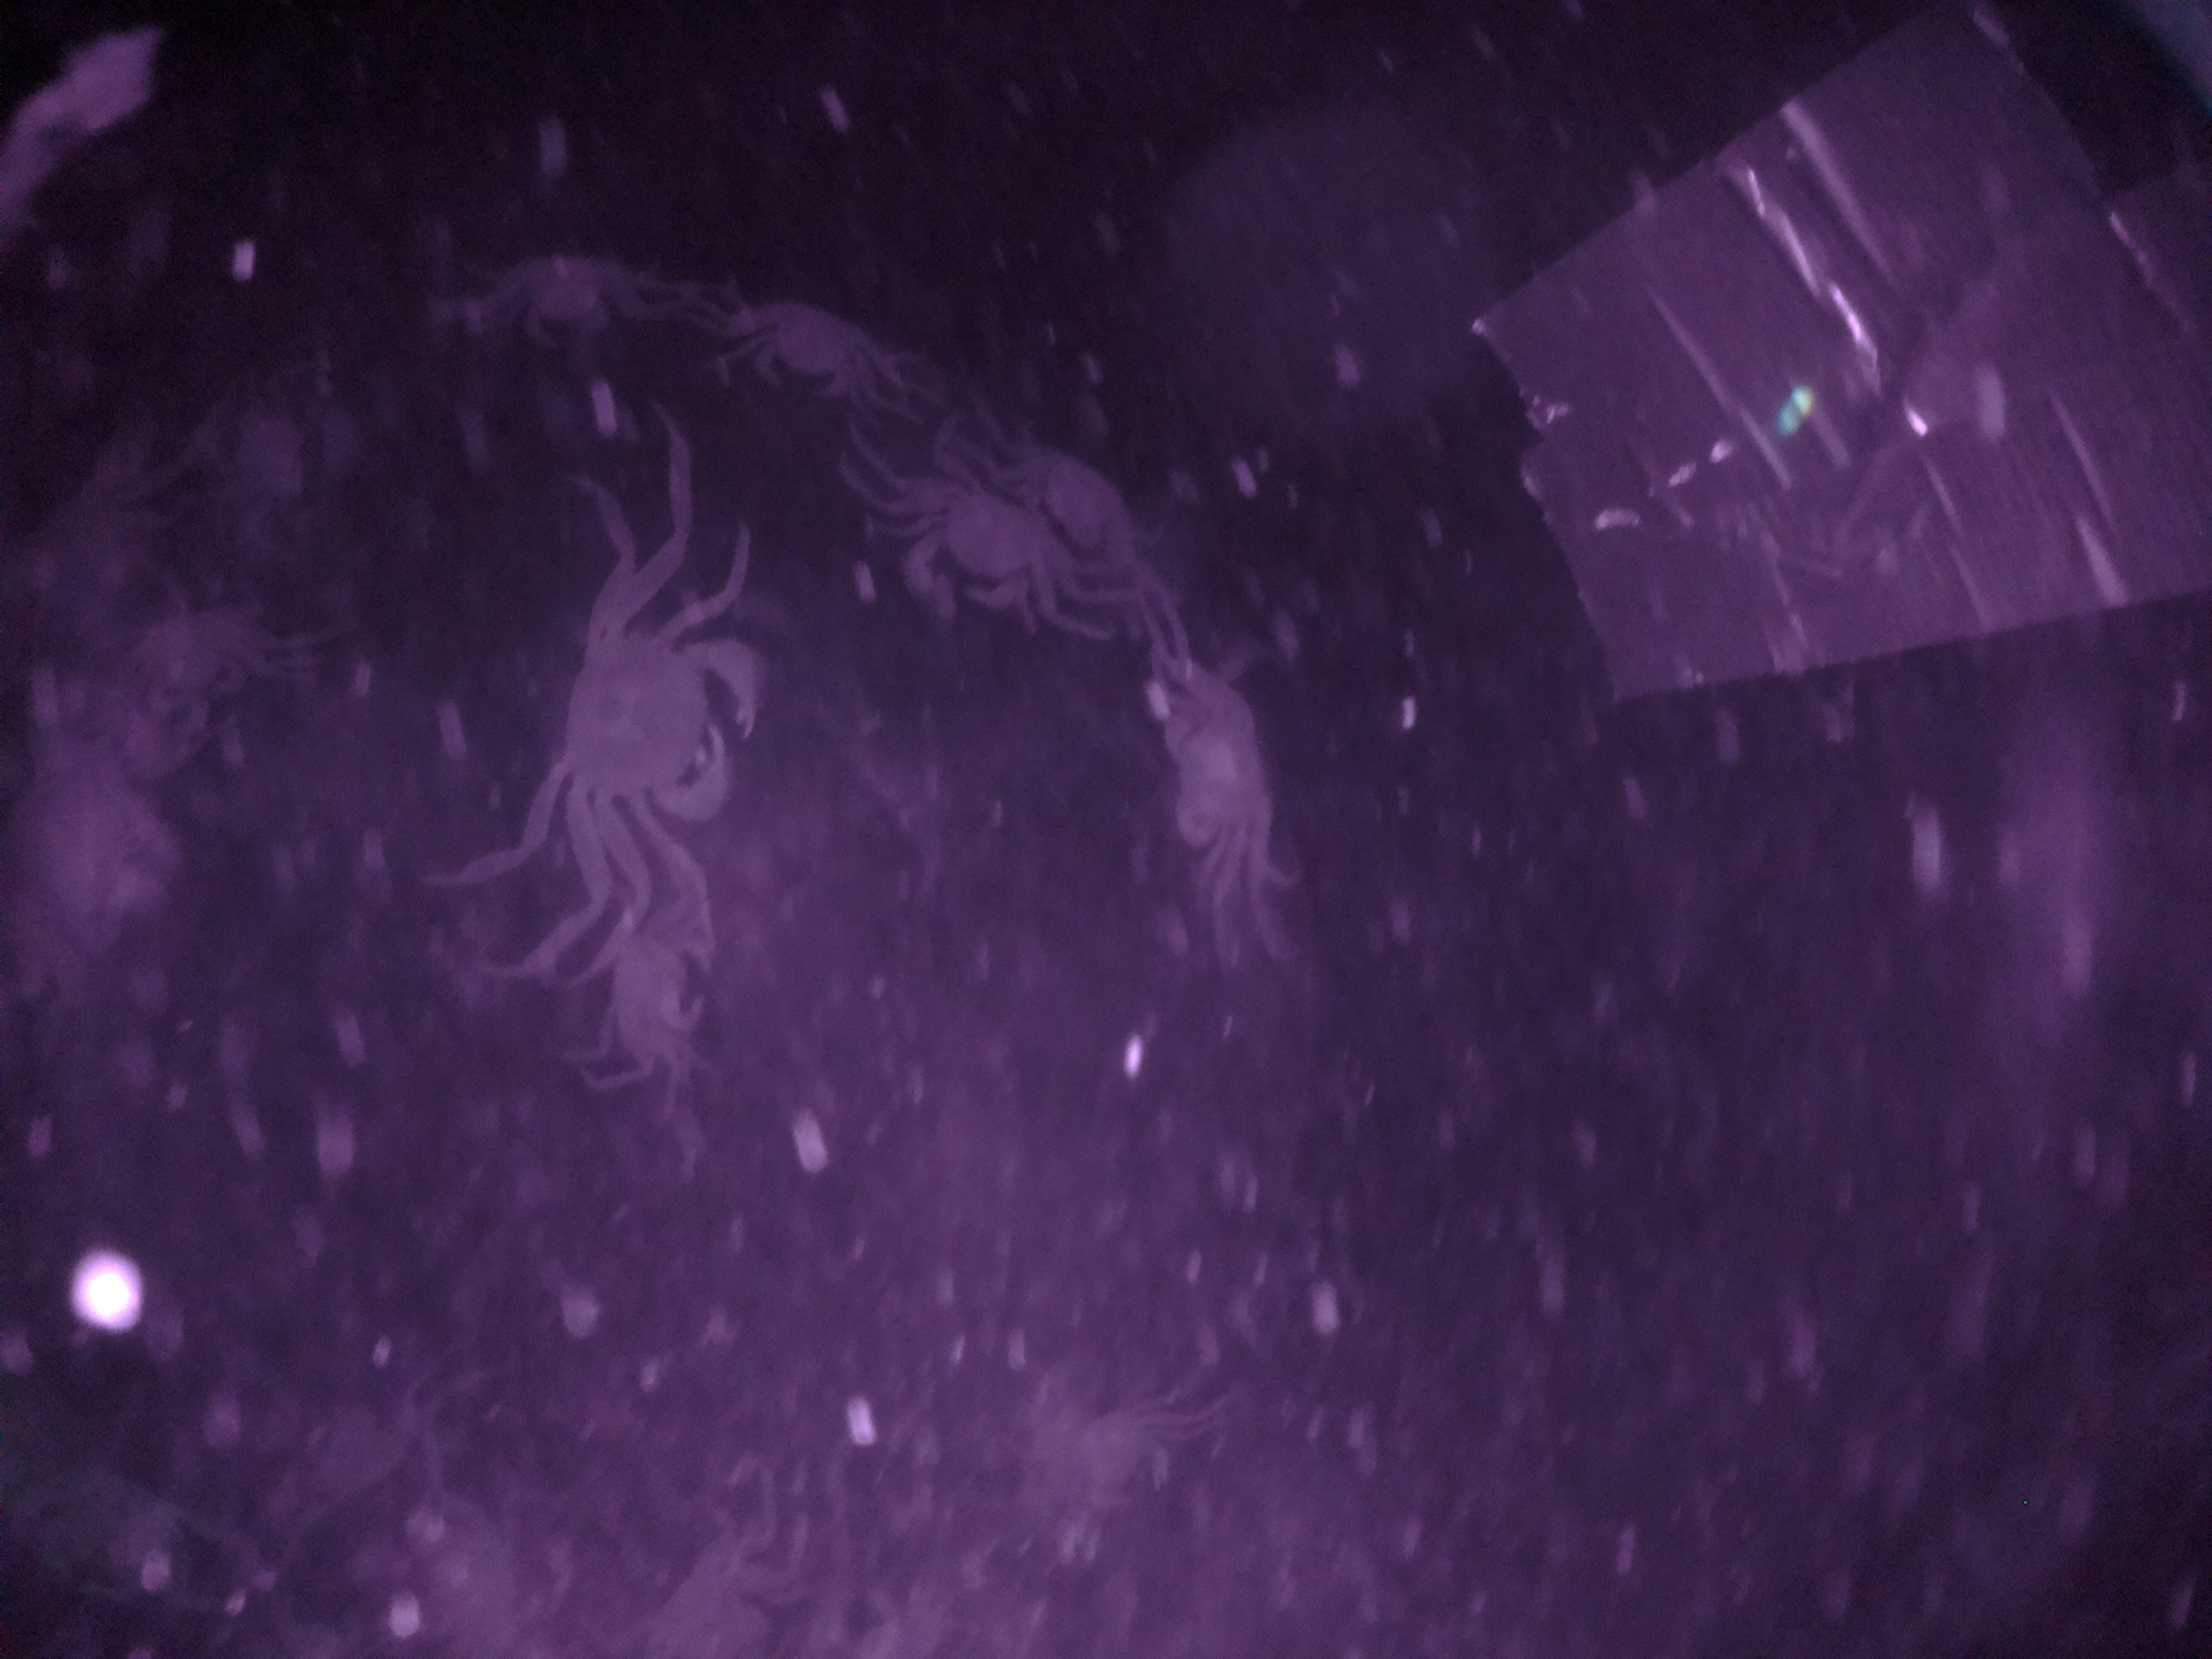Crab: (542, 586, 775, 847), (1136, 674, 1296, 866), (880, 465, 1062, 617), (732, 291, 902, 415)
